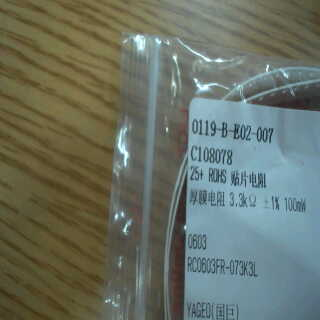3.3kO: (225, 187, 258, 217)
